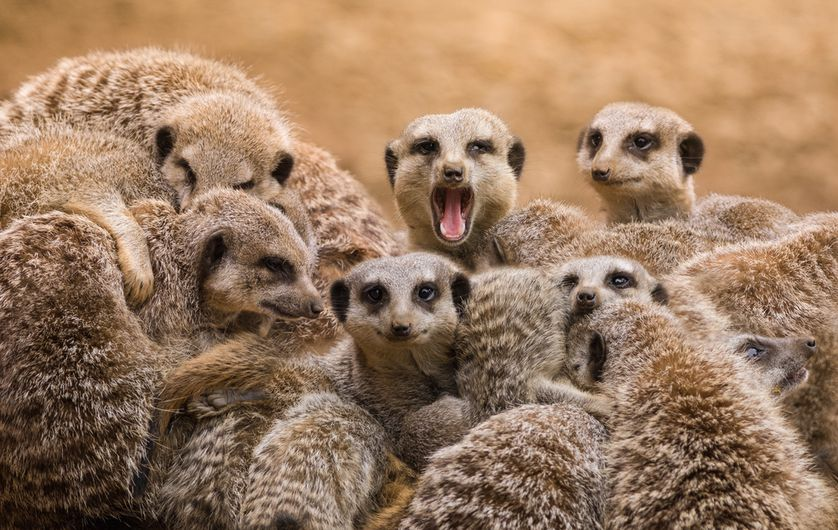meerkat: (356, 85, 541, 273), (566, 79, 713, 251)
